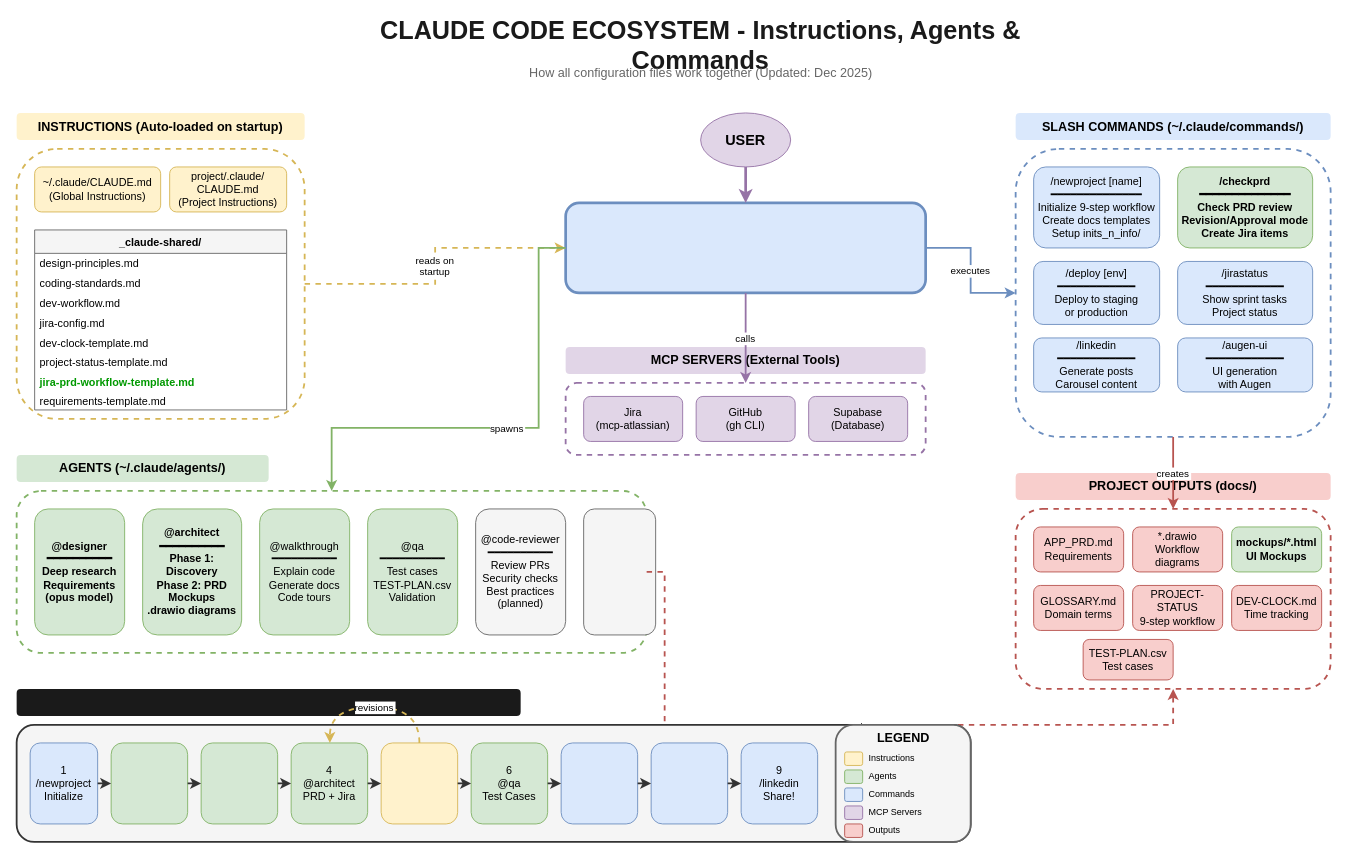
The diagram is 1346 pixels wide and 859 high, and some of its shapes have lost their labels. Here are the shapes that lost their labels. From the top down, the centre of each, then its label:
At (x=745, y=247): "CLAUDE CODE (Main Assistant)".
At (x=619, y=571): "@tester ━━━━━━━━━━ Run tests Coverage (planned)".
At (x=268, y=702): "TYPICAL WORKFLOW (with Jira PRD Review)".
At (x=149, y=783): "2 @designer Requirements".
At (x=239, y=783): "3 @architect Discovery".
At (x=419, y=783): "5 /checkprd Review Loop".
At (x=599, y=783): "7 Claude Implement".
At (x=689, y=783): "8 /deploy Ship it!".
